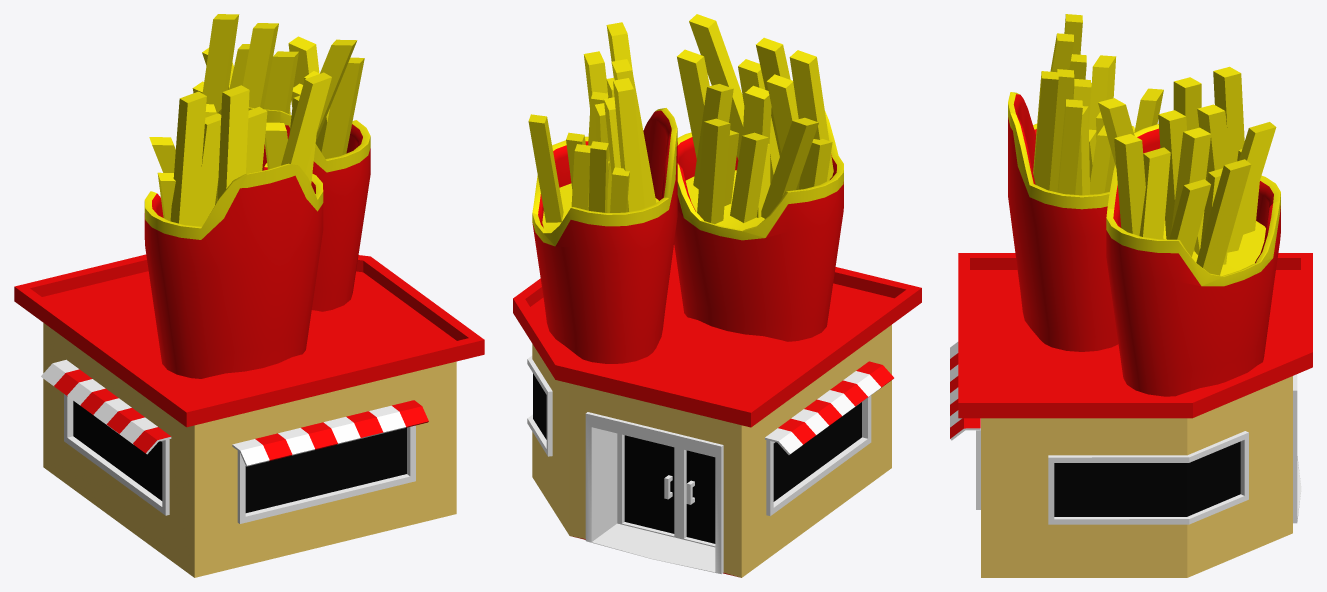
File: shopfries.fbx
3 renders of one model, left to right at view 1: azimuth 30°, elevation 25°; view 2: azimuth 150°, elevation 25°; view 3: azimuth 270°, elevation 25°, orthographic. The views are drawn at different scales.
Parts seen in each view (by area): view 1: shopfries; view 2: shopfries; view 3: shopfries.
Boxes of the visible parts, <box> form: shopfries: <box>14,14,484,577</box>; shopfries: <box>513,14,921,577</box>; shopfries: <box>950,14,1312,577</box>.
Bounding box in the file's own units: 827 × 1138 × 828.
